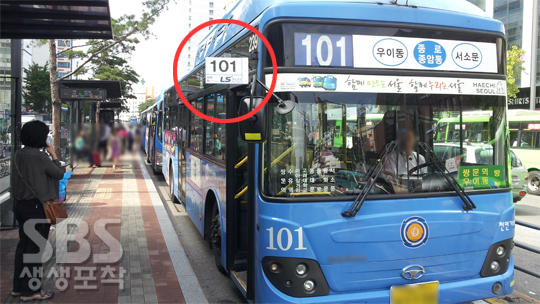bnum: (298, 32, 349, 66)
